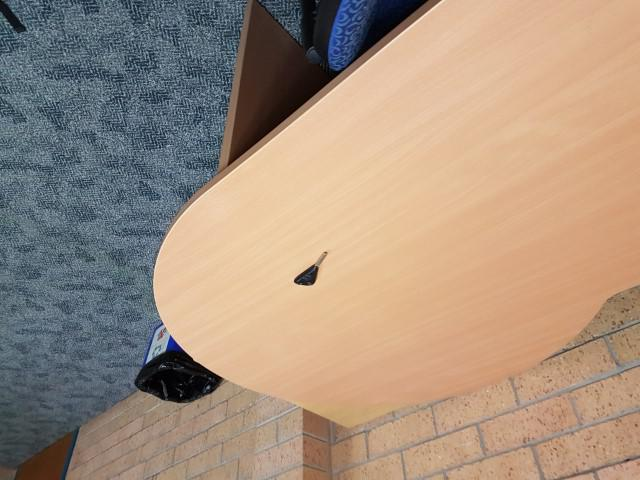key: (292, 249, 331, 289)
